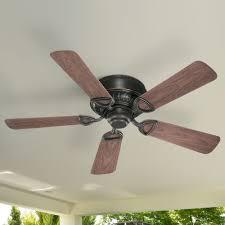fan: (4, 48, 220, 175)
